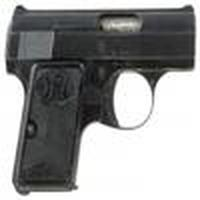gun: (2, 7, 196, 187)
